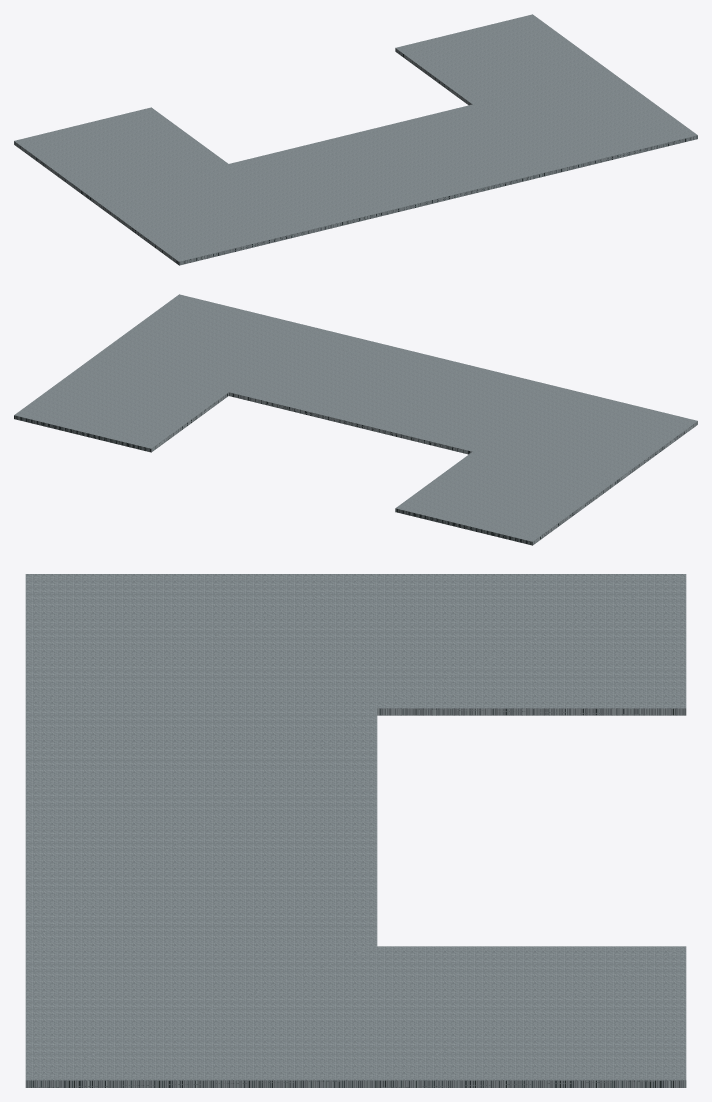
Rendered from BossFloor 1.fbx.
3 views of the same model, one above another, from view 1: azimuth 30°, elevation 25°; view 2: azimuth 150°, elevation 25°; view 3: azimuth 270°, elevation 25° (orthographic). The views are drawn at different scales.
Parts seen in each view (by area): view 1: BossFloor.002; view 2: BossFloor.002; view 3: BossFloor.002.
Part boxes in pixels (box(x1,y1,x2,y2)): BossFloor.002: box(14, 14, 697, 265); BossFloor.002: box(14, 294, 697, 545); BossFloor.002: box(25, 574, 686, 1087).
Bounding box in the file's own units: 287 × 2 × 158.
